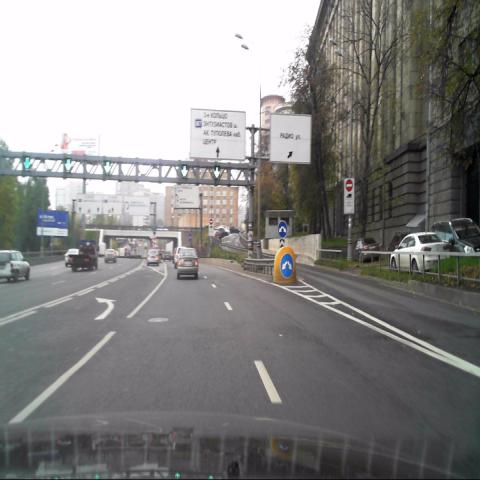4_2_3: (280, 252, 294, 279)
